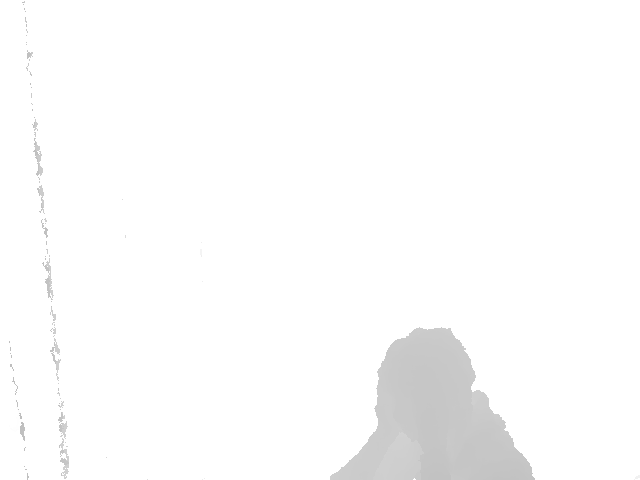head: (391, 327, 476, 441)
person: (328, 328, 538, 480)
